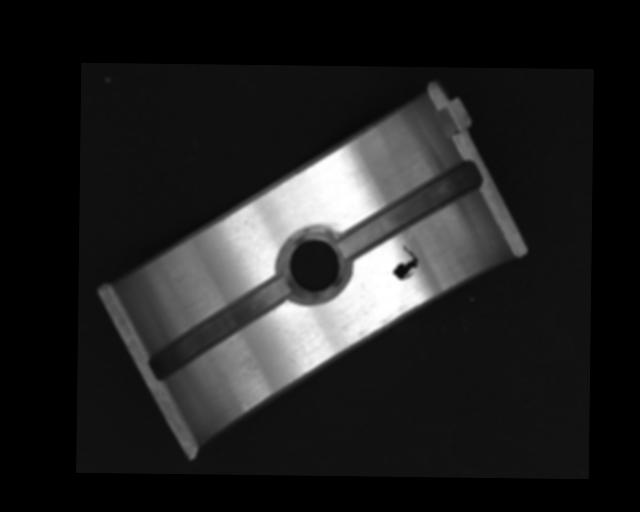blot: (391, 243, 419, 280)
gap: (149, 275, 291, 379), (339, 158, 479, 259)
hole: (285, 231, 346, 297)
